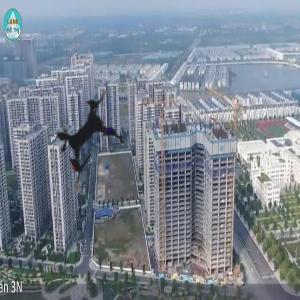drone: (10, 61, 168, 219)
